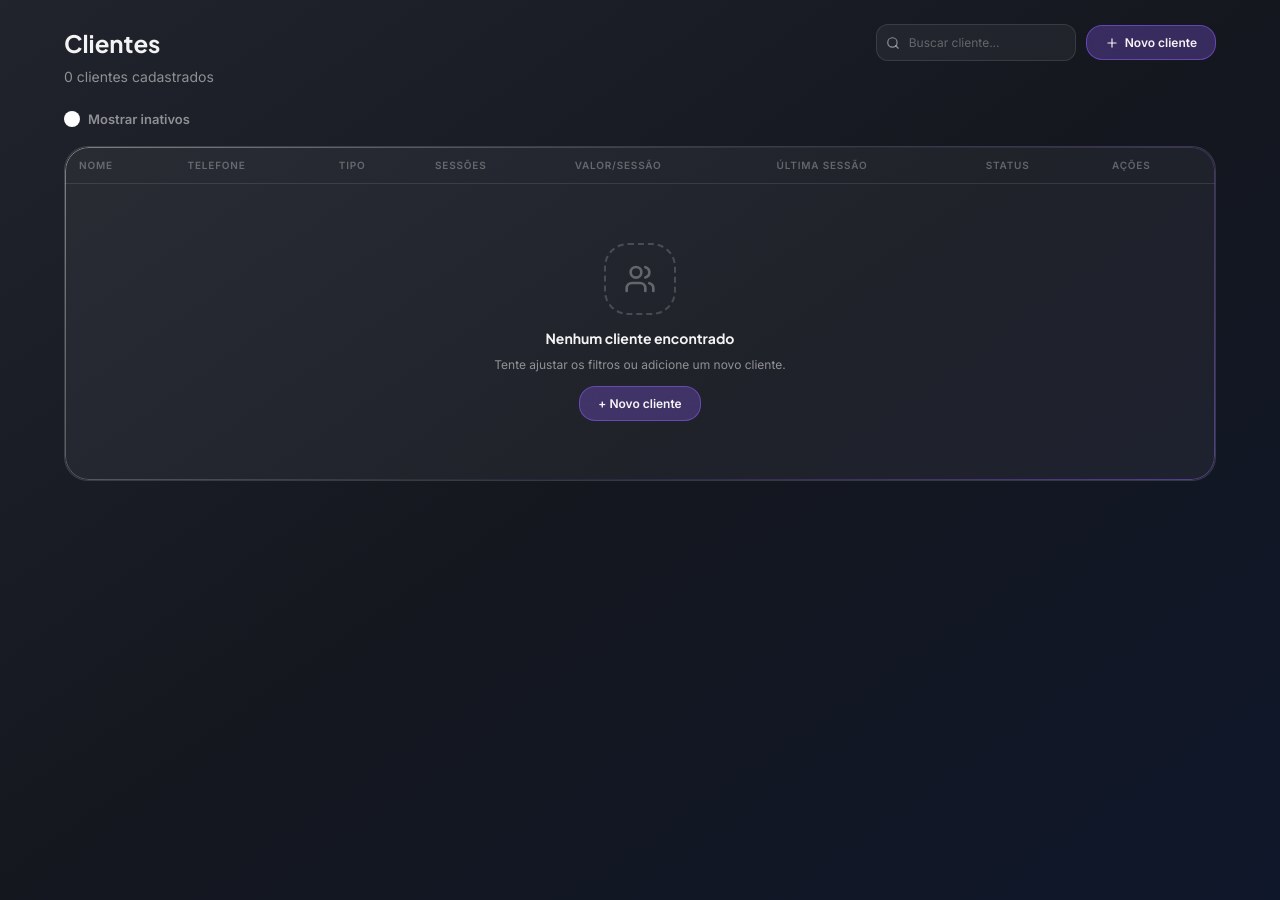
Scenario: ClientsPage › abre o dialog "Novo Cliente" ao clicar no botão correspondente
Note: The button with text "Novo Cliente" is always visible in the toolbar
Click the button "Novo cliente": (1151, 43) [1086,25,1216,60]
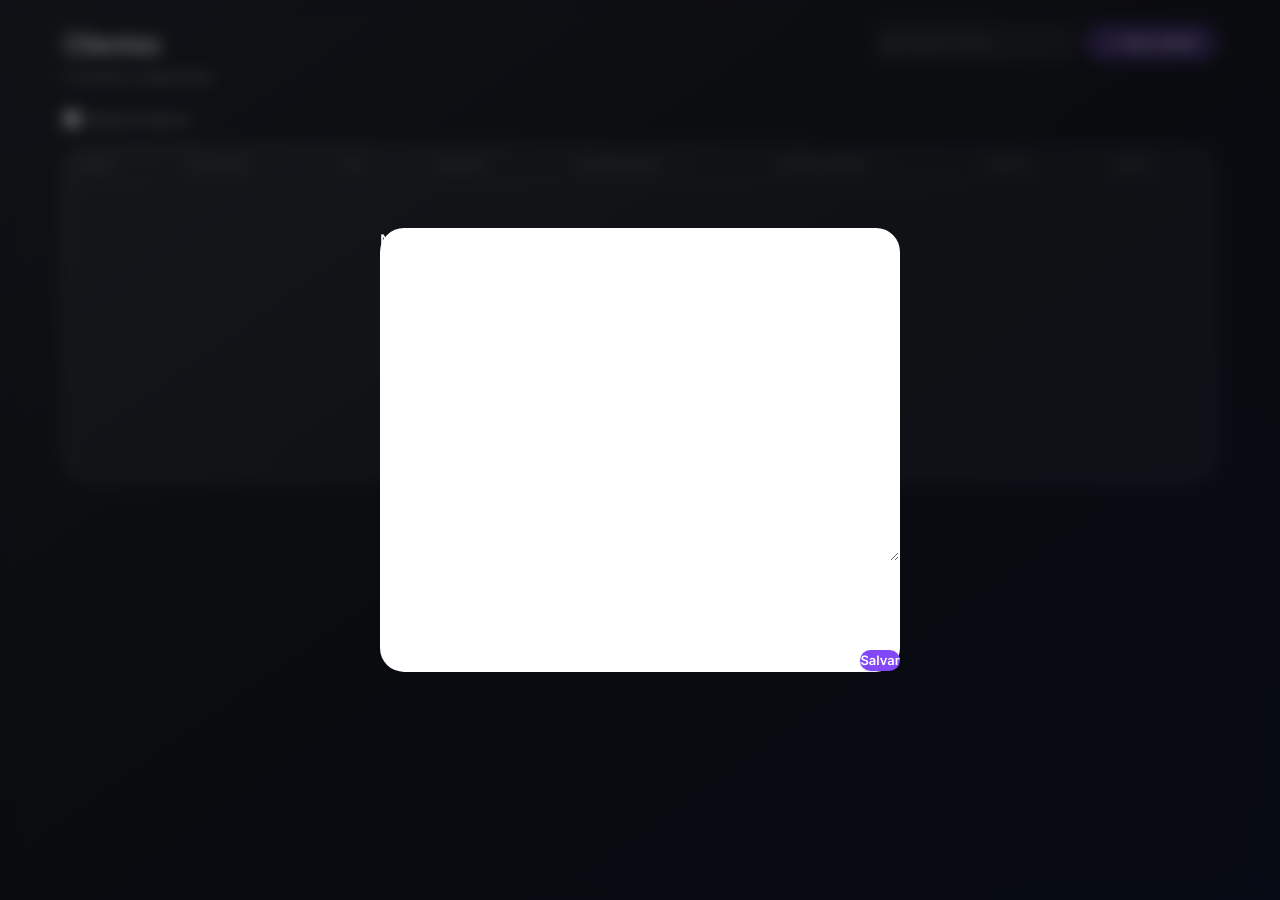
expect the dialog is shown: met, box [380,228,900,672]
expect the text "Preencha os dados do novo cliente." is shown: met, box [380,262,599,278]
